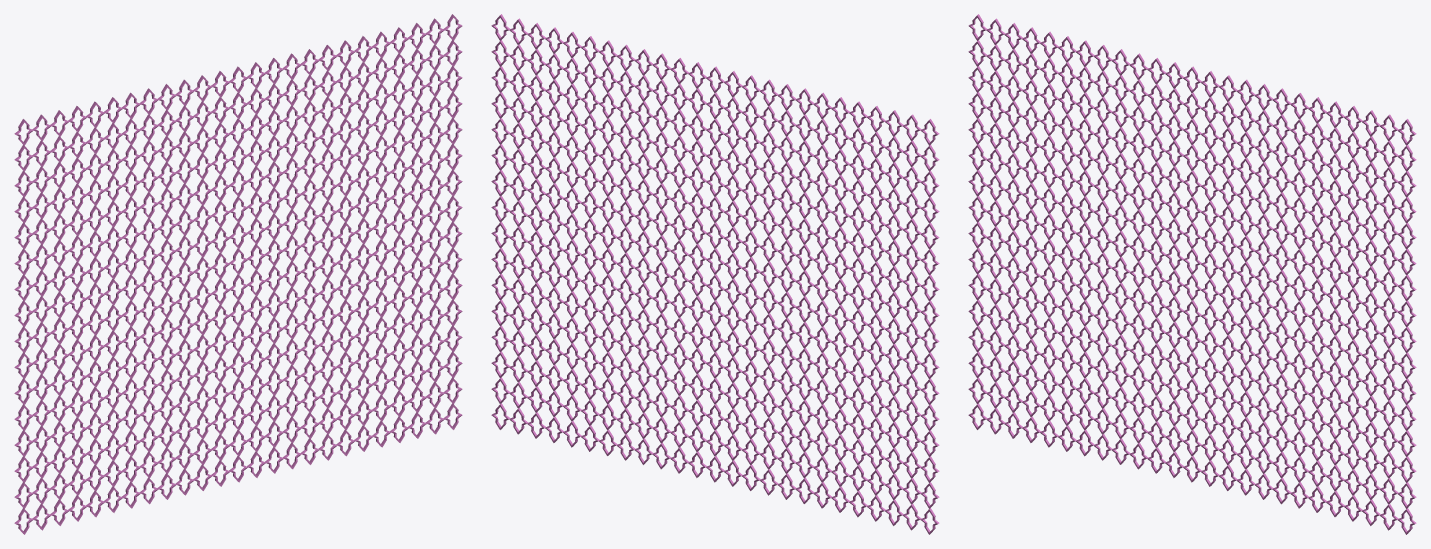
File: gatestraight.fbx
The picture shows the model from 3 angles, left to right: view 1: azimuth 30°, elevation 25°; view 2: azimuth 150°, elevation 25°; view 3: azimuth 330°, elevation 25°; orthographic projection.
Visible parts, largest first — view 1: gatestraight; view 2: gatestraight; view 3: gatestraight.
Boxes of the visible parts, x1,y1,x2,y2 form: gatestraight: [14, 14, 462, 534]; gatestraight: [491, 14, 939, 534]; gatestraight: [968, 14, 1416, 534].
Bounding box in the file's own units: 7108 × 6309 × 44.36.
